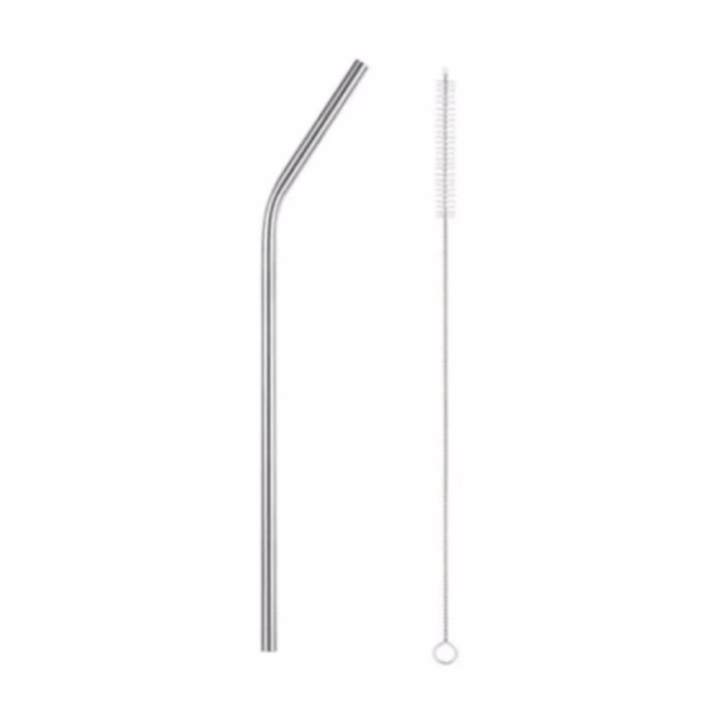Drinking Straw: (254, 54, 371, 656)
